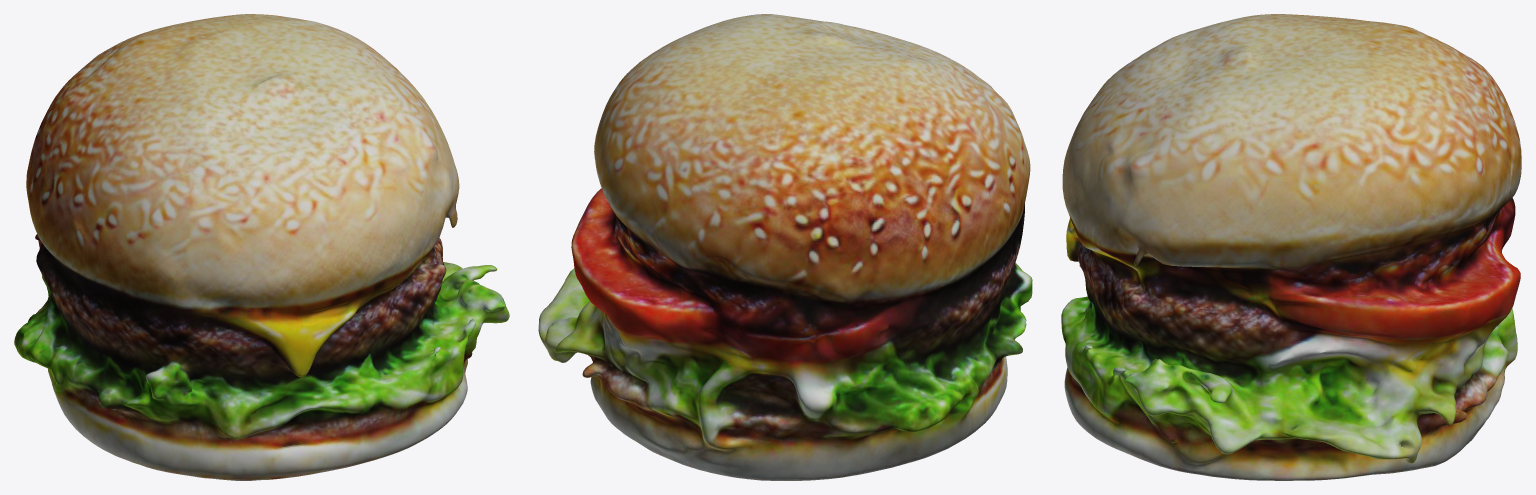
The model's file is Hamburger_3D.fbx.
The picture shows the model from 3 angles, left to right: view 1: azimuth 30°, elevation 25°; view 2: azimuth 150°, elevation 25°; view 3: azimuth 270°, elevation 25°; orthographic projection. The views are drawn at different scales.
Visible parts, largest first — view 1: high_poly; view 2: high_poly; view 3: high_poly.
Boxes of the visible parts, <box> form: high_poly: <box>14,14,509,480</box>; high_poly: <box>538,14,1032,480</box>; high_poly: <box>1061,14,1521,480</box>.
Size of the model in its own units: 100 by 81.89 by 94.34.
